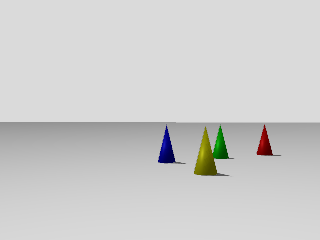blue: (157, 124, 176, 165)
green: (212, 125, 228, 159)
red: (254, 125, 272, 154)
yellow: (188, 126, 219, 175)
